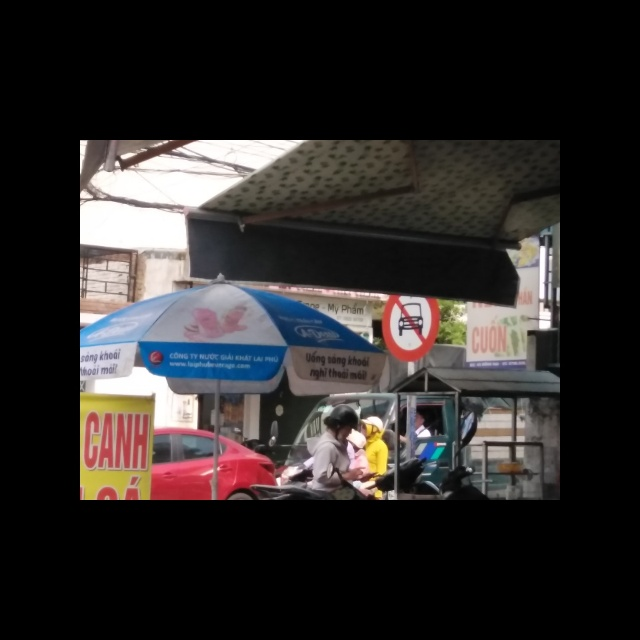Cấm xe ô tô: (378, 293, 441, 362)
